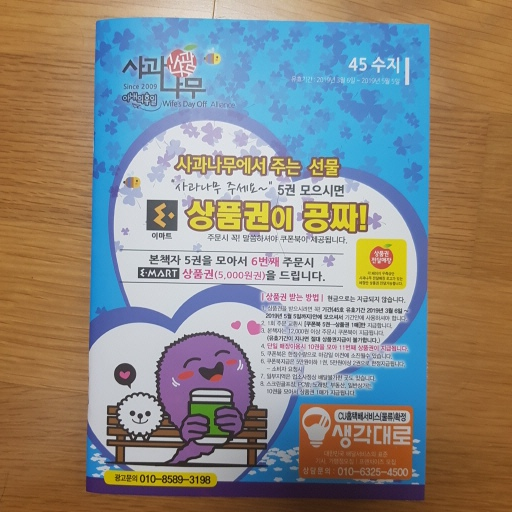Paper_2: (88, 9, 435, 505)
